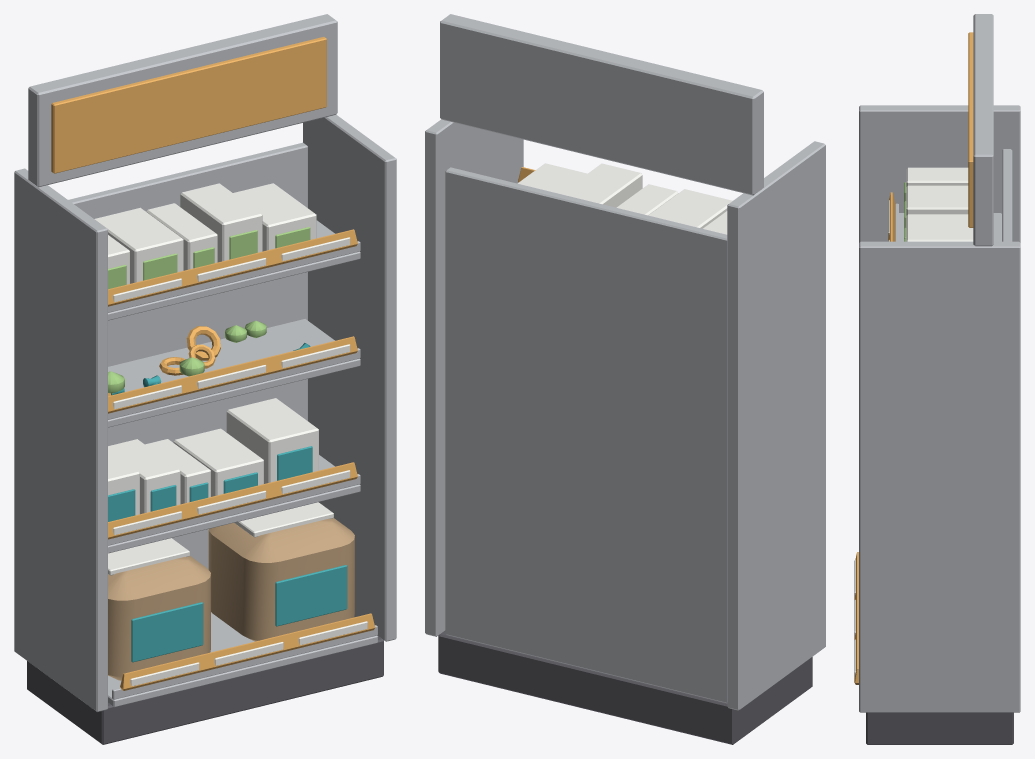
File: pet-shop-and-grooming-salon-gondola-end-cap-150d2b6e__34567.glb
3 renders of one model, left to right at view 1: azimuth 30°, elevation 25°; view 2: azimuth 150°, elevation 25°; view 3: azimuth 270°, elevation 25°, orthographic. The views are drawn at different scales.
Parts seen in each view (by area): view 1: gondola-end-cap; view 2: gondola-end-cap; view 3: gondola-end-cap.
Part boxes in pixels (x1=…): gondola-end-cap: x1=14, y1=14, x2=396, y2=744; gondola-end-cap: x1=425, y1=14, x2=825, y2=744; gondola-end-cap: x1=854, y1=14, x2=1020, y2=744.
Bounding box in the file's own units: 1 × 1.95 × 0.4939.
